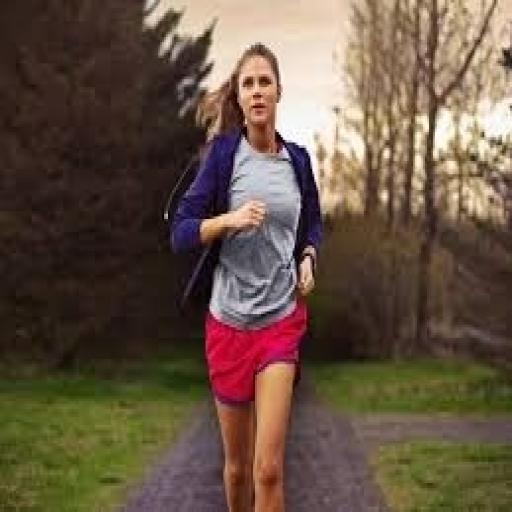running: (166, 40, 326, 510)
